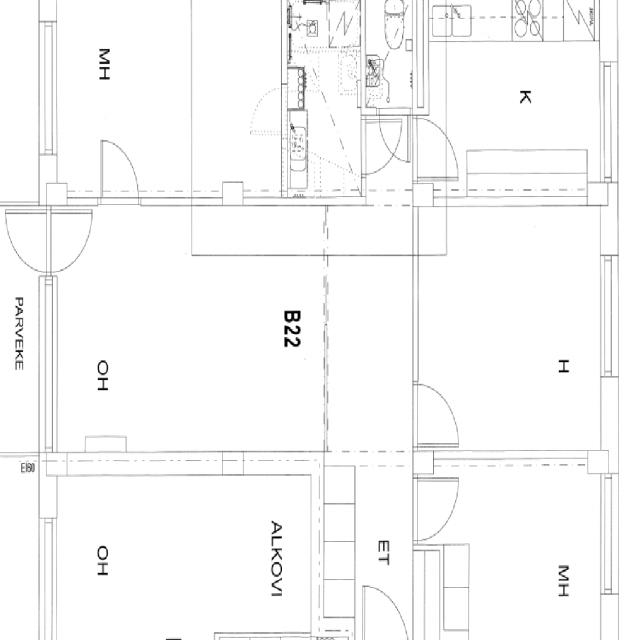door: (38, 211, 96, 271), (0, 211, 57, 271), (412, 385, 459, 447), (412, 478, 459, 540), (412, 118, 458, 181), (362, 579, 408, 640), (102, 141, 138, 205), (360, 122, 400, 174), (379, 108, 410, 162)
